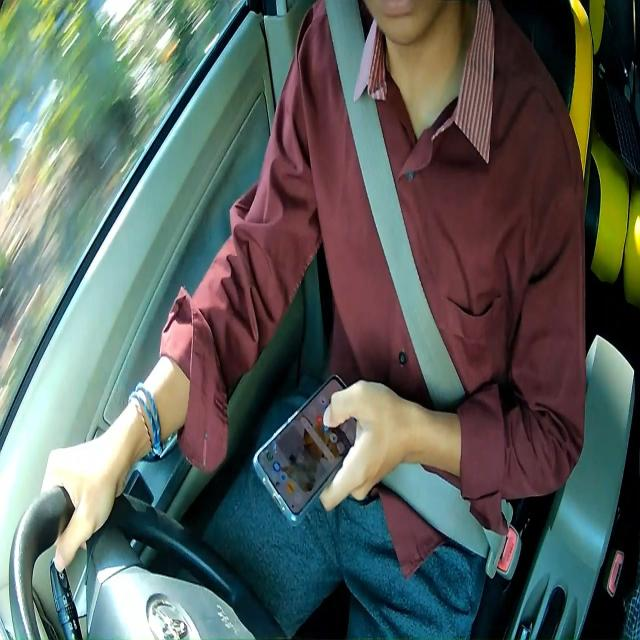phone: (254, 371, 358, 524)
